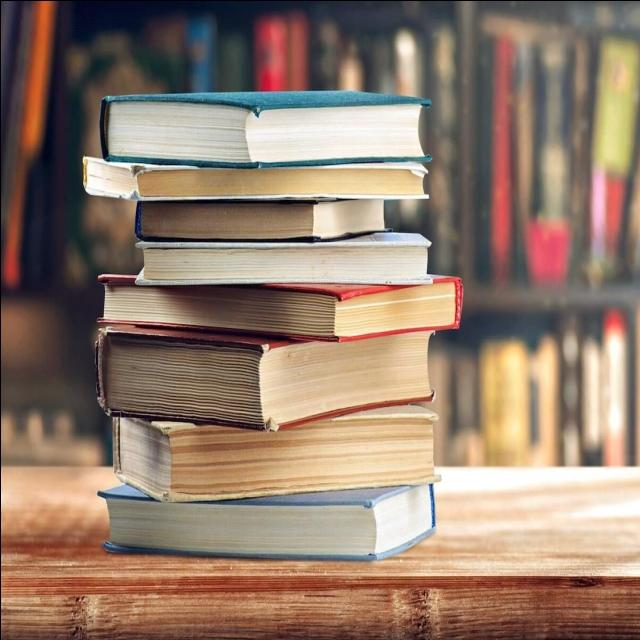book: (70, 61, 446, 176)
